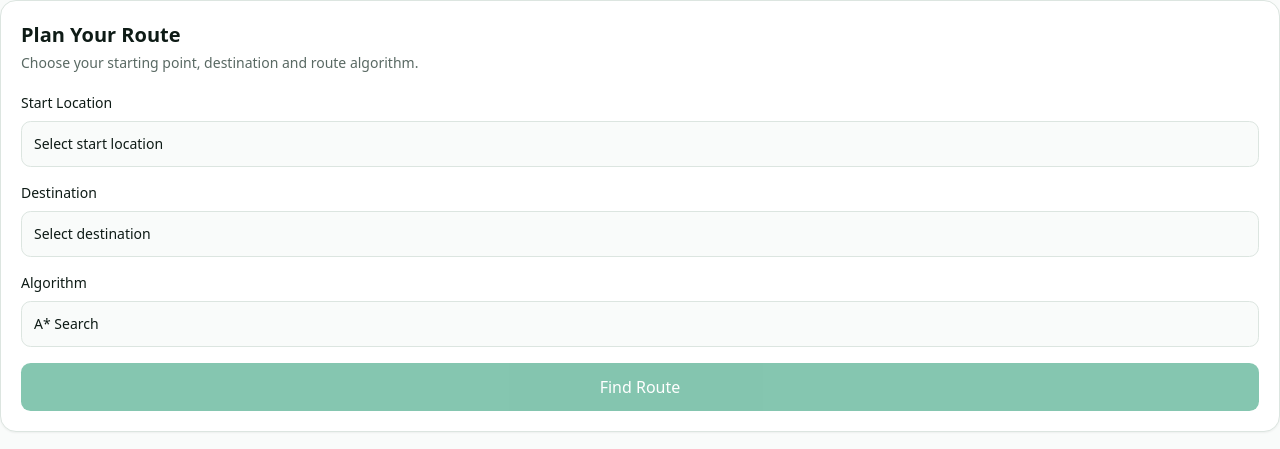
Test: ControlsPanel › offers every location as an option
This screenshot has width=1280, height=449.
Step 1. Click the dropdown labelled "Select start location" → [99, 144], box [21,121,1259,167]
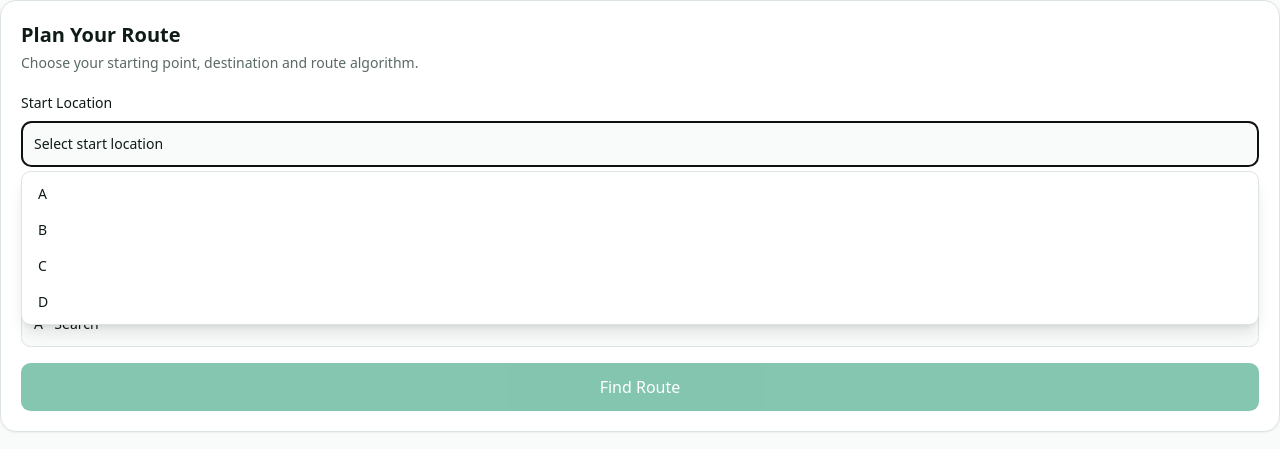
Result: the option "A" is shown at [26,176,1254,212]
Result: the option "B" is shown at [26,212,1254,248]
Result: the option "C" is shown at [26,248,1254,284]
